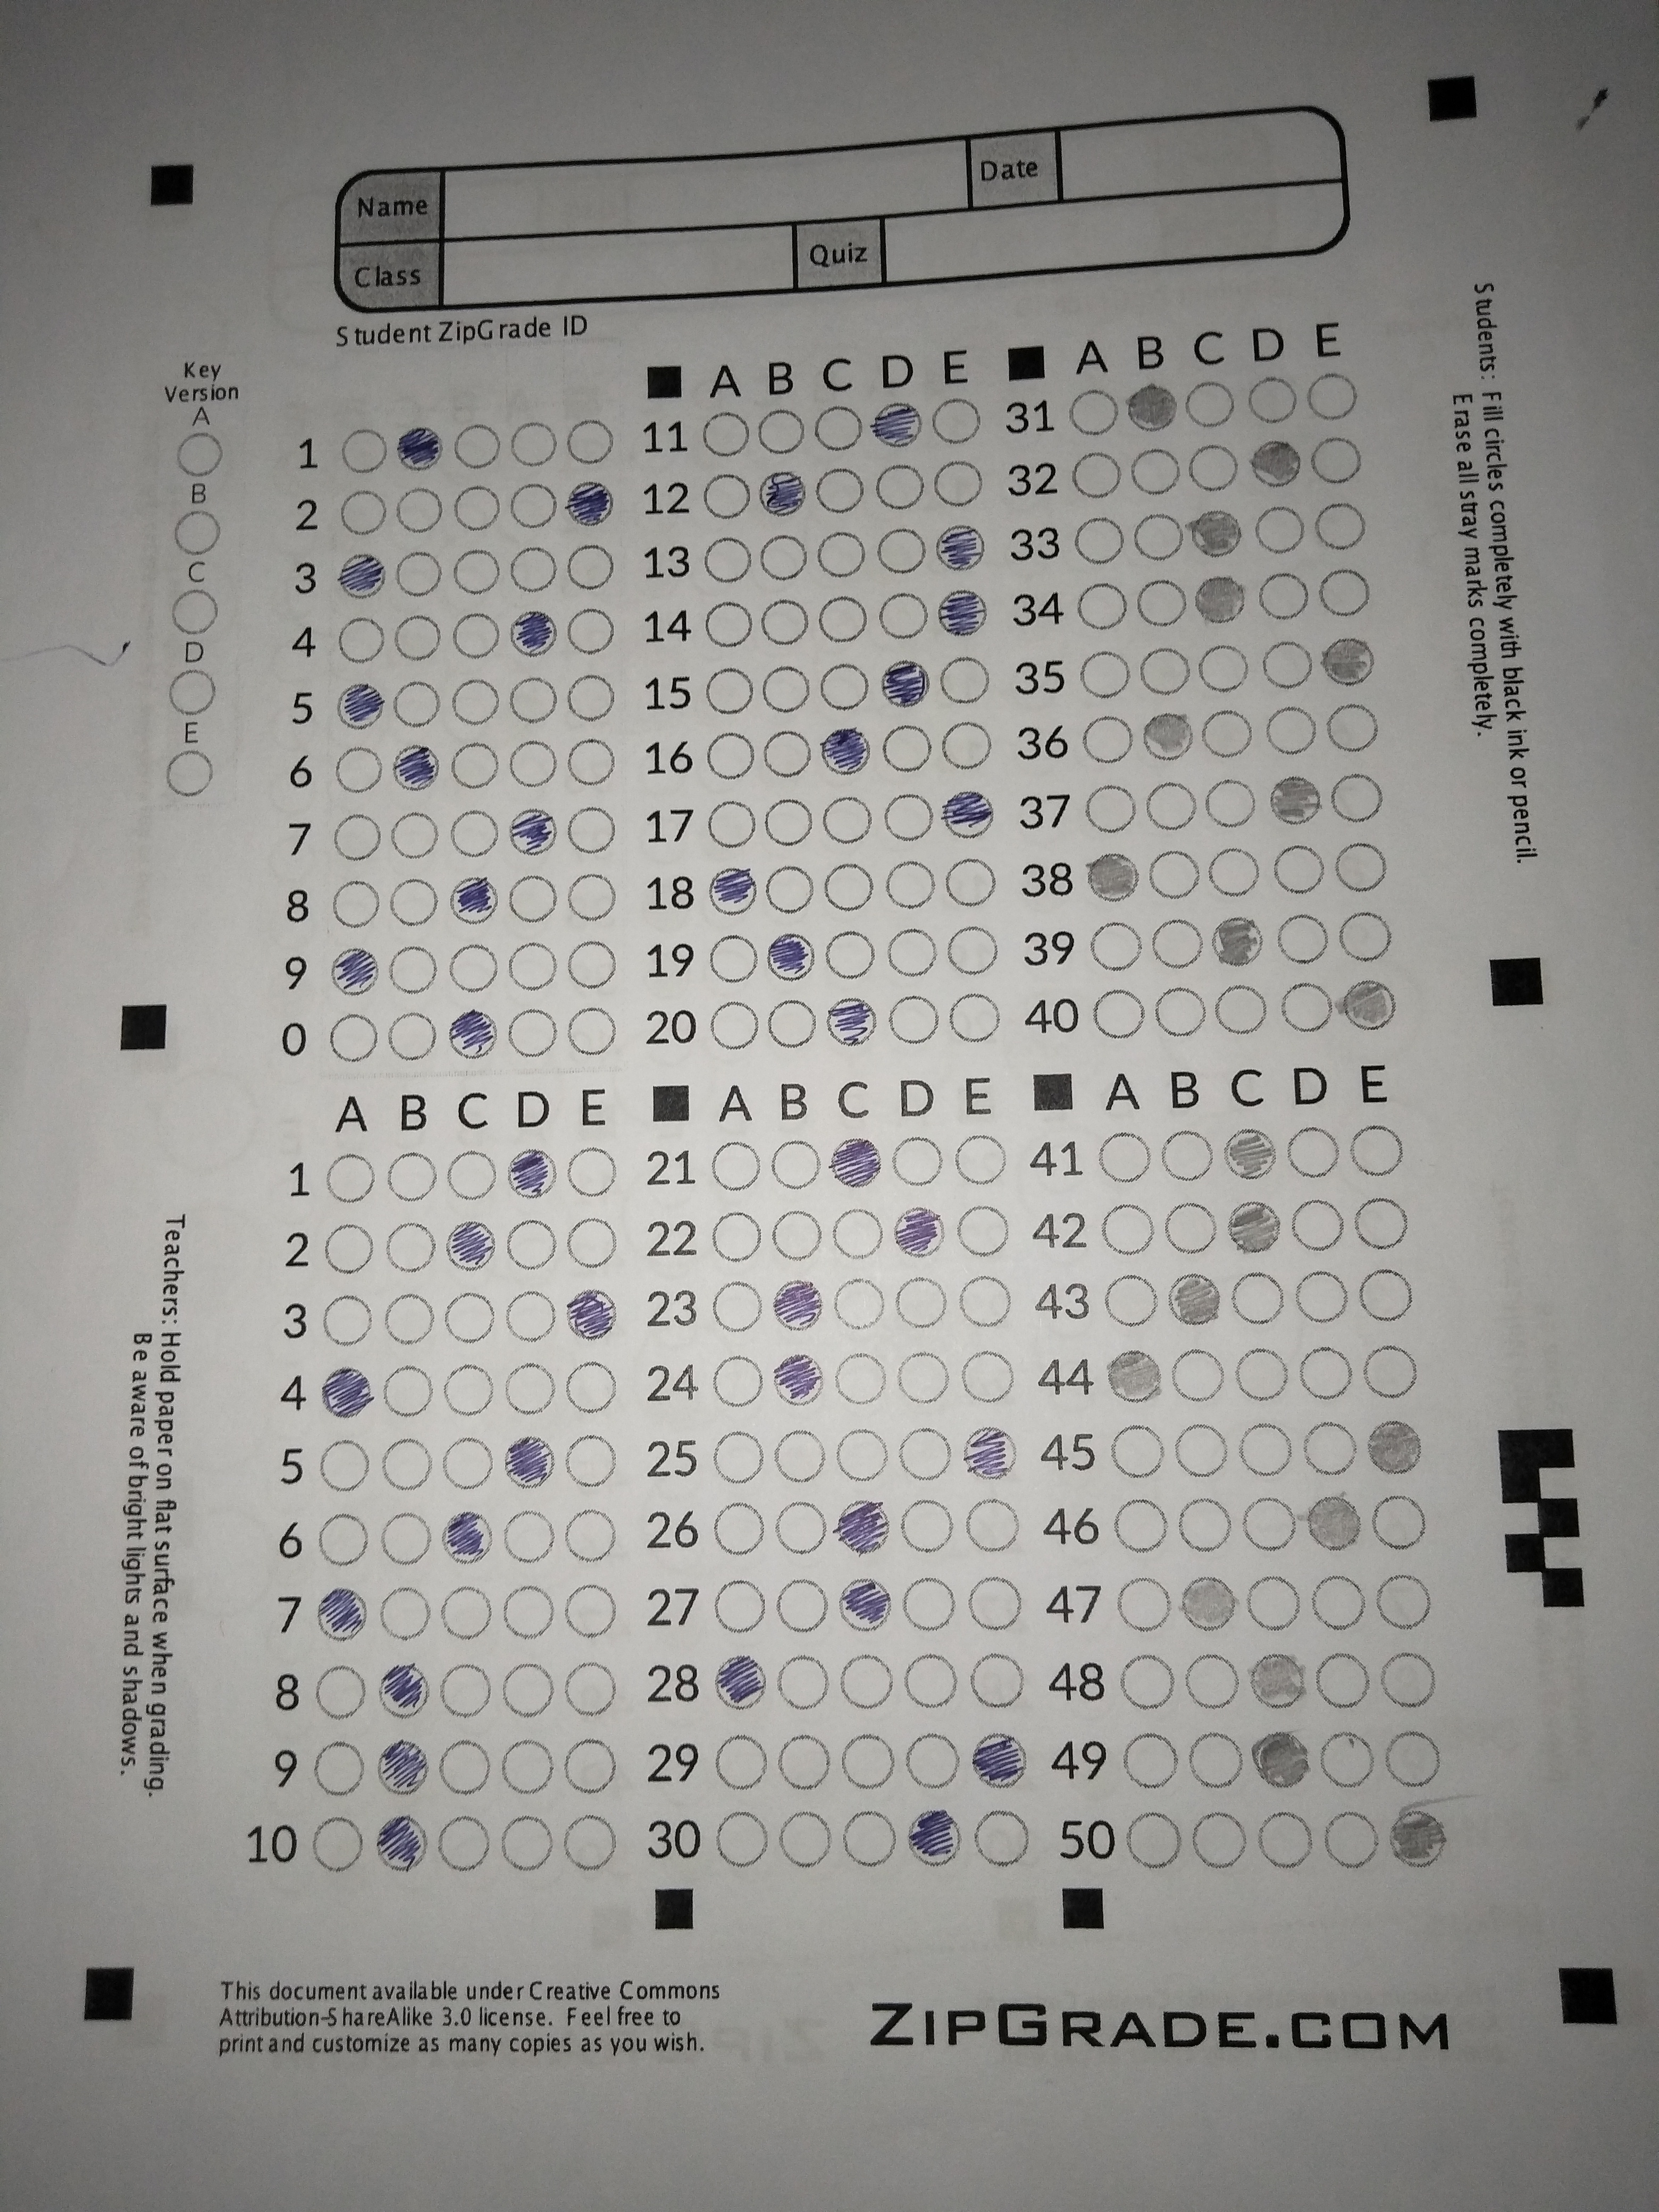not-c: (962, 1576, 1032, 1646), (967, 1728, 1032, 1803), (298, 1811, 368, 1879), (305, 1660, 371, 1731), (957, 1345, 1028, 1411), (1253, 1803, 1319, 1872), (711, 1726, 775, 1797), (561, 1730, 624, 1803), (308, 1510, 376, 1576), (1354, 1263, 1420, 1331), (1375, 1646, 1441, 1714), (1382, 1728, 1448, 1796), (842, 1731, 906, 1801), (1115, 1811, 1185, 1876), (500, 1730, 559, 1804), (1373, 1573, 1439, 1639), (971, 1803, 1039, 1867), (1180, 1648, 1244, 1716), (1316, 1726, 1380, 1794), (896, 1423, 958, 1493), (769, 1498, 829, 1569), (1082, 988, 1154, 1049), (1361, 1338, 1422, 1409), (1187, 1726, 1248, 1797), (777, 1728, 836, 1801), (1119, 1731, 1185, 1796), (1114, 1648, 1182, 1710), (775, 1804, 836, 1874), (1366, 1489, 1427, 1559), (1190, 1811, 1251, 1881), (1324, 1804, 1384, 1876), (500, 1501, 556, 1576), (328, 737, 392, 801), (706, 1275, 769, 1341), (704, 1578, 770, 1641), (1175, 1487, 1237, 1554), (1107, 1573, 1173, 1635), (1312, 1644, 1373, 1712), (566, 1580, 626, 1649), (969, 1649, 1028, 1719), (906, 1730, 965, 1799), (1295, 1261, 1354, 1331), (563, 1501, 620, 1573), (437, 1733, 495, 1804), (378, 1505, 434, 1578), (1274, 1123, 1347, 1179), (713, 1808, 775, 1872), (1352, 1191, 1415, 1256), (1236, 1423, 1298, 1487), (1310, 1573, 1373, 1637), (308, 1738, 375, 1799), (772, 1425, 833, 1491), (840, 1804, 901, 1871), (1089, 1129, 1155, 1190), (559, 1658, 619, 1726), (1143, 779, 1202, 846), (1098, 1270, 1168, 1327), (563, 1432, 624, 1496), (704, 1426, 765, 1491), (1108, 1494, 1173, 1555), (563, 1355, 622, 1421), (951, 1204, 1018, 1263), (1321, 698, 1380, 765), (931, 456, 988, 524), (962, 1493, 1019, 1561), (1087, 914, 1145, 982), (706, 1130, 762, 1200), (892, 1270, 948, 1339), (838, 1423, 894, 1493), (387, 1003, 441, 1075), (335, 421, 396, 484), (561, 1815, 624, 1876), (1272, 907, 1333, 970), (1169, 1341, 1230, 1404), (1232, 1343, 1293, 1406), (1246, 1575, 1307, 1637), (437, 1662, 497, 1726), (775, 1655, 835, 1719), (1068, 578, 1133, 637), (561, 801, 619, 867), (565, 869, 622, 935), (441, 1432, 498, 1498), (943, 921, 1000, 988), (775, 1578, 833, 1644), (836, 1649, 894, 1716), (1314, 498, 1371, 564), (1204, 775, 1262, 841), (565, 409, 620, 477), (901, 1500, 957, 1568), (1091, 1202, 1159, 1258), (450, 803, 504, 873), (314, 1439, 375, 1500), (946, 993, 1007, 1054), (1269, 838, 1330, 899), (1107, 1421, 1168, 1482), (563, 1139, 622, 1202), (903, 1649, 962, 1712), (1297, 1341, 1359, 1400), (1173, 1420, 1232, 1482), (829, 1205, 887, 1270), (896, 1350, 953, 1414), (1335, 902, 1392, 967), (1213, 982, 1277, 1040), (1298, 1420, 1363, 1477), (505, 937, 561, 1003), (375, 1583, 430, 1649), (901, 1575, 957, 1641), (322, 1008, 383, 1068), (502, 1217, 561, 1278), (504, 1289, 563, 1350), (502, 1587, 561, 1648), (958, 1271, 1019, 1331), (1080, 782, 1140, 843), (315, 1292, 378, 1350), (1148, 914, 1206, 977), (439, 1583, 495, 1648), (500, 1655, 556, 1719), (1303, 369, 1359, 434), (1253, 502, 1309, 566), (1197, 636, 1251, 702), (444, 1143, 497, 1211), (565, 1001, 624, 1061), (939, 718, 999, 777), (704, 1207, 763, 1266), (711, 1353, 770, 1413), (1312, 568, 1371, 627), (436, 1813, 493, 1874), (943, 853, 1004, 911), (708, 928, 765, 989), (880, 925, 938, 986), (887, 991, 945, 1052), (889, 1132, 946, 1193), (1065, 448, 1126, 505), (1134, 577, 1192, 637), (1290, 1197, 1351, 1254), (833, 1348, 889, 1411), (711, 1501, 767, 1564), (1077, 712, 1141, 766), (319, 1148, 376, 1207), (1255, 570, 1314, 627), (1262, 637, 1319, 697), (1330, 836, 1389, 894), (1232, 1264, 1290, 1324), (758, 404, 814, 465), (929, 390, 985, 451), (831, 1275, 887, 1336), (763, 995, 817, 1057), (1185, 441, 1248, 495), (1161, 1127, 1215, 1190), (1349, 1122, 1403, 1184), (390, 806, 443, 871), (770, 1204, 821, 1270), (1068, 650, 1134, 700), (563, 608, 620, 665), (326, 812, 383, 869), (1241, 1496, 1298, 1554), (500, 1813, 556, 1872), (697, 533, 753, 592), (767, 1134, 823, 1193), (955, 1132, 1011, 1191), (1248, 371, 1303, 430), (1204, 843, 1263, 899), (509, 871, 563, 932), (443, 1291, 497, 1352), (382, 1359, 436, 1420), (505, 1359, 559, 1420), (816, 526, 868, 589), (389, 876, 439, 941), (387, 1144, 437, 1209), (448, 676, 504, 733), (319, 1221, 376, 1277), (380, 1439, 437, 1494), (699, 469, 755, 526), (877, 460, 932, 517), (762, 794, 817, 852), (819, 792, 875, 850), (708, 1000, 765, 1055), (1183, 376, 1241, 432), (1154, 986, 1209, 1043), (509, 542, 561, 603), (385, 1292, 437, 1353), (816, 460, 868, 521), (695, 728, 756, 780), (1066, 516, 1127, 568), (336, 489, 392, 545), (505, 1010, 561, 1066), (826, 928, 882, 984), (1138, 644, 1194, 700), (565, 735, 619, 792), (760, 531, 814, 589), (823, 862, 880, 916), (1129, 444, 1183, 502), (1201, 709, 1258, 763), (1162, 1204, 1220, 1258), (505, 416, 558, 475), (335, 608, 387, 667), (566, 667, 619, 726), (871, 589, 931, 641), (763, 860, 816, 920), (1133, 510, 1185, 570), (885, 786, 934, 848), (507, 674, 563, 728), (385, 946, 439, 1001), (441, 1364, 497, 1418), (701, 409, 755, 465), (760, 662, 816, 716), (1330, 772, 1384, 827), (1148, 850, 1204, 904), (394, 550, 446, 608), (451, 549, 504, 606), (396, 484, 446, 543), (394, 611, 444, 671), (509, 735, 559, 794), (509, 479, 558, 540), (568, 538, 617, 599), (1061, 387, 1122, 435), (451, 606, 504, 662), (448, 740, 500, 796), (387, 1219, 437, 1277), (875, 526, 932, 577), (1262, 709, 1321, 758), (568, 939, 622, 991), (763, 728, 816, 782), (880, 723, 934, 775), (331, 876, 382, 932), (448, 941, 498, 996), (568, 1216, 619, 1271), (939, 657, 995, 707), (885, 857, 936, 913), (1279, 982, 1335, 1033), (1309, 437, 1366, 486), (453, 418, 504, 472), (814, 401, 864, 455), (704, 799, 755, 853), (169, 585, 223, 636), (758, 596, 814, 644), (819, 660, 871, 711), (166, 669, 220, 718), (704, 665, 760, 712), (394, 679, 443, 732), (704, 599, 753, 651), (817, 594, 870, 643), (164, 749, 216, 798), (453, 482, 500, 536), (173, 509, 223, 557), (173, 432, 225, 475)
taken-c: (1364, 1414, 1424, 1477), (1253, 1728, 1312, 1791), (1180, 1573, 1239, 1634), (375, 1810, 432, 1872), (1249, 1648, 1307, 1710), (1385, 1811, 1450, 1867), (1305, 1493, 1364, 1552), (972, 1731, 1030, 1792), (375, 1737, 430, 1799), (439, 1507, 497, 1566), (960, 1425, 1019, 1482), (1166, 1268, 1223, 1327), (1107, 1348, 1166, 1406), (906, 1806, 962, 1867), (376, 1663, 432, 1723), (563, 1285, 619, 1343), (892, 1204, 948, 1261), (1342, 975, 1398, 1033), (1227, 1197, 1283, 1254), (836, 1498, 890, 1557), (770, 1275, 824, 1334), (1082, 852, 1141, 906), (1220, 1127, 1279, 1181), (319, 1366, 375, 1421), (836, 1576, 892, 1632), (317, 1585, 371, 1642), (1208, 913, 1265, 967), (505, 1148, 561, 1202), (444, 1217, 498, 1273), (772, 1350, 826, 1406), (713, 1656, 767, 1710), (765, 930, 819, 984), (1192, 573, 1246, 627), (1269, 773, 1323, 827), (829, 1134, 882, 1190), (939, 789, 995, 841), (880, 655, 932, 711), (1321, 636, 1377, 688), (824, 996, 878, 1049), (821, 725, 873, 779), (871, 399, 925, 451), (450, 1007, 500, 1062), (505, 1433, 556, 1489), (1188, 509, 1244, 559), (1138, 712, 1194, 763), (500, 604, 552, 657), (329, 942, 380, 996), (392, 742, 443, 794), (507, 806, 559, 857), (450, 874, 500, 927), (708, 866, 758, 918), (932, 582, 985, 632), (1249, 437, 1302, 488), (934, 523, 988, 571), (756, 469, 810, 517), (1126, 383, 1178, 432), (565, 479, 613, 529), (338, 550, 389, 599), (335, 683, 385, 732), (396, 421, 444, 470)
